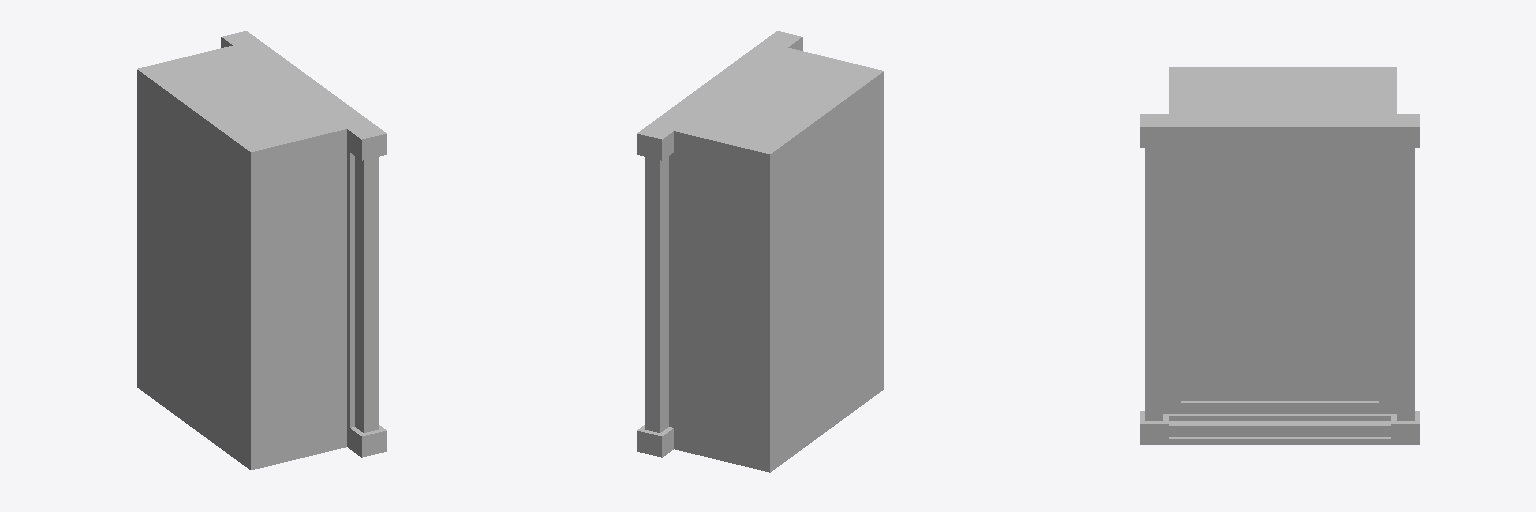
Rendered from Mur rajout.obj.
The picture shows the model from 3 angles: view 1: azimuth 30°, elevation 25°; view 2: azimuth 150°, elevation 25°; view 3: azimuth 270°, elevation 25°; orthographic projection.
Parts seen in each view (by area): view 1: object 1; view 2: object 1; view 3: object 1.
Part boxes in pixels (x1,y1,x2,y2): object 1: (137, 31, 386, 469); object 1: (637, 31, 883, 472); object 1: (1140, 67, 1419, 444).
Bounding box in the file's own units: 2.4 × 6 × 4.8.